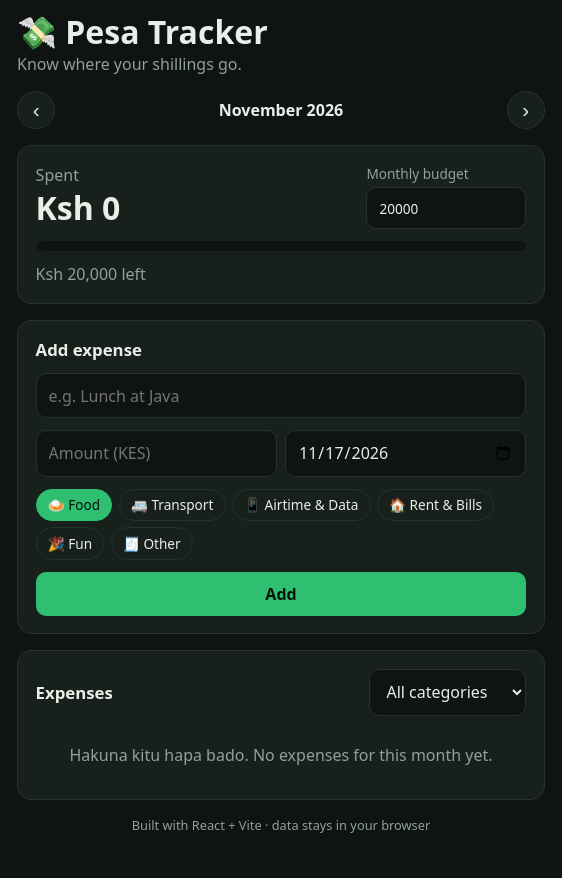
it: Pesa Tracker › only shows expenses for the selected month
In the field with placeholder "e.g. Lunch at Java": (281, 396) x1=36 y1=373 x2=526 y2=418, type "Rent"
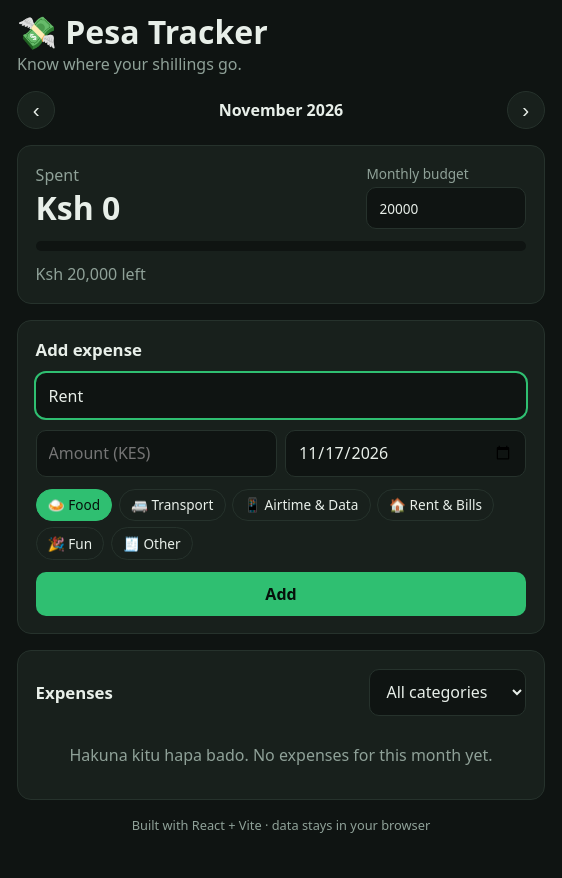
In the number field with placeholder "Amount (KES)": (156, 453) x1=36 y1=430 x2=277 y2=477, type "15000"
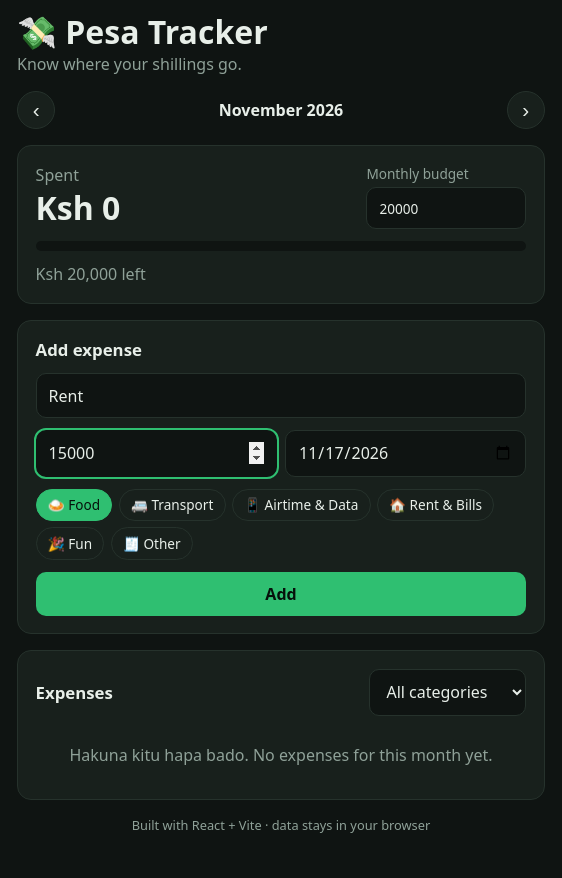
Click the button "Add": click(281, 594) x1=36 y1=572 x2=526 y2=616
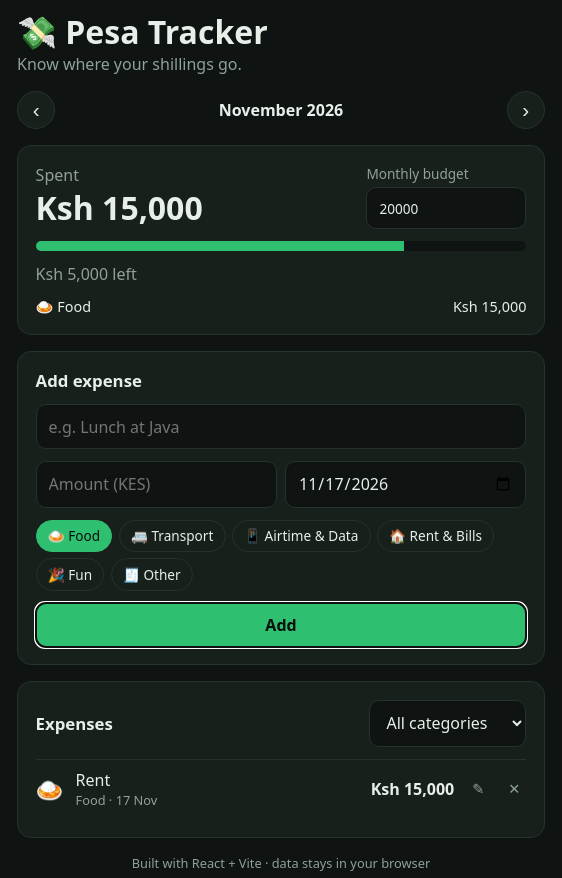
Click the button named "Previous month": click(36, 110) x1=17 y1=91 x2=55 y2=129
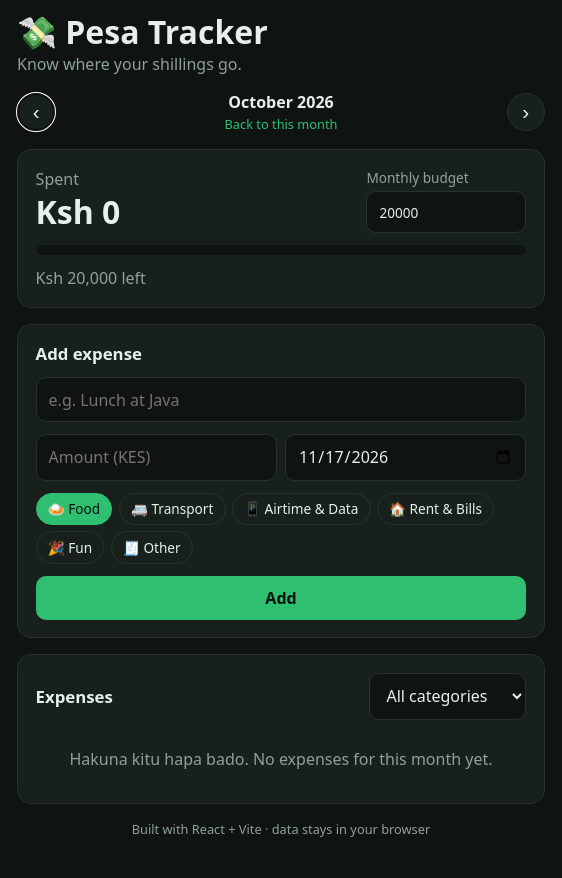
Expected: the text "Hakuna kitu hapa bado. No expenses for this month yet." is shown, x1=70 y1=748 x2=492 y2=770
Click the button "Back to this month": click(281, 124) x1=224 y1=115 x2=337 y2=133
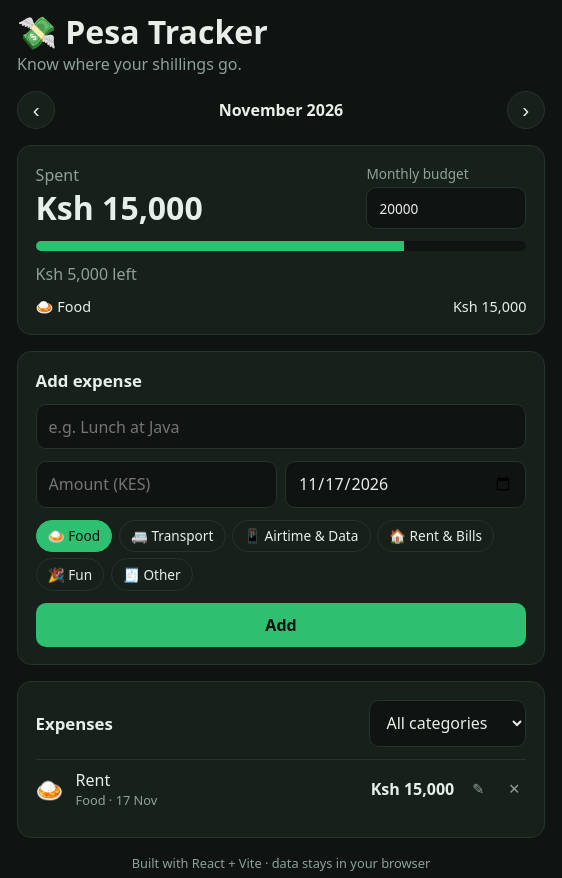
Expected: the text "Rent" is shown, x1=76 y1=769 x2=110 y2=791
